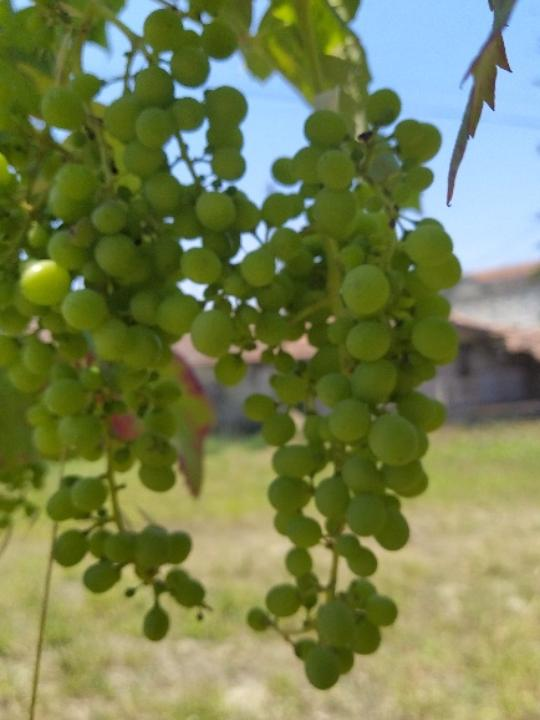grape: (0, 0, 251, 643), (214, 85, 468, 694)
